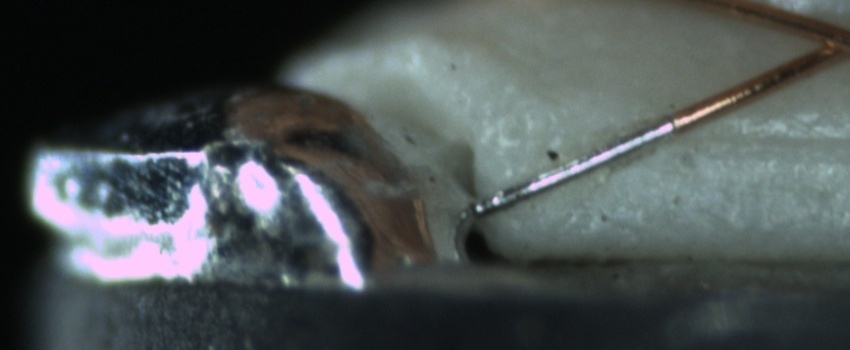CL: (795, 16, 850, 70)
DL: (674, 105, 845, 175)
TS: (470, 116, 674, 216)
